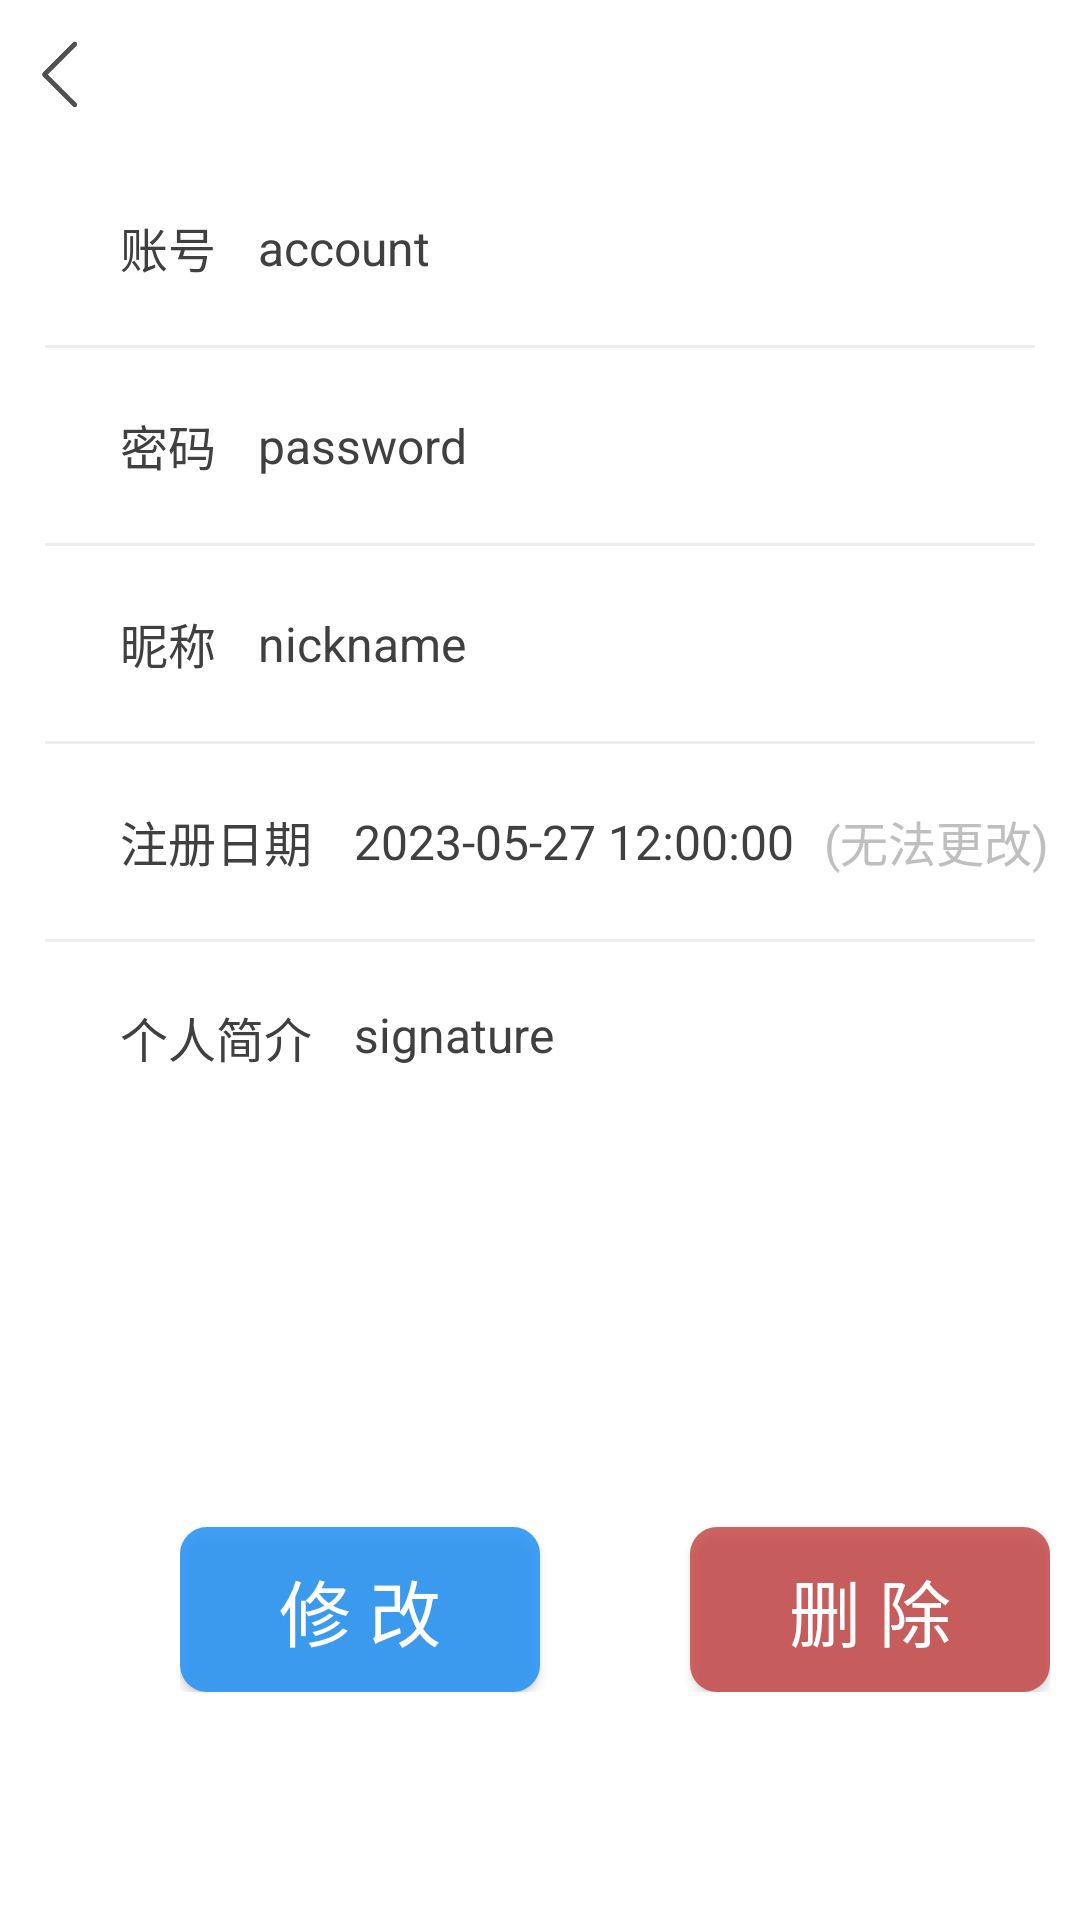

Named icons in this screenshot (1080 x 1920) and their bounding boxes, (x1, y1, x2, y2):
back: (42, 41, 77, 107)
